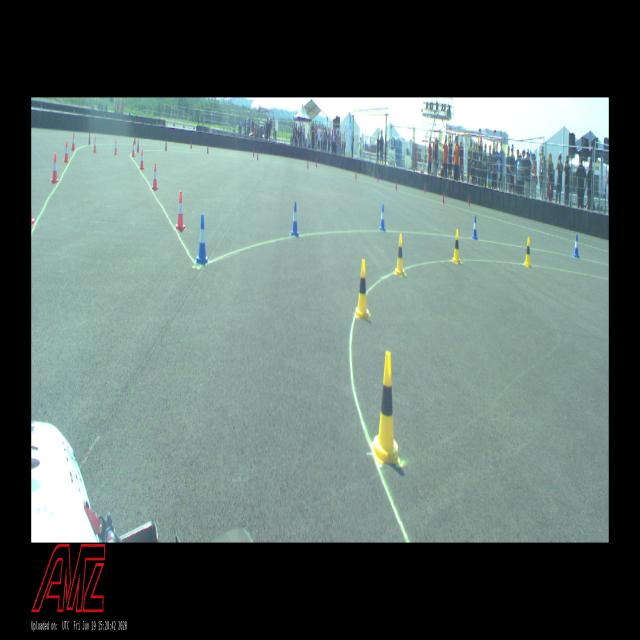blue_cone: (197, 214, 208, 264), (291, 202, 299, 236), (380, 204, 386, 231), (574, 235, 580, 258), (472, 216, 477, 239)
orange_cone: (176, 192, 185, 230), (51, 154, 58, 183), (152, 164, 158, 190), (64, 141, 69, 162), (31, 203, 35, 224), (140, 150, 144, 170), (114, 139, 118, 155), (72, 134, 76, 150), (93, 136, 96, 152), (132, 141, 135, 157)
unknown_cone: (88, 132, 90, 145), (137, 139, 139, 152), (442, 192, 444, 205), (468, 193, 470, 206), (424, 182, 426, 194), (134, 134, 136, 144), (165, 141, 167, 151), (395, 180, 397, 190), (190, 140, 192, 149), (355, 171, 357, 180), (257, 151, 258, 160), (253, 150, 254, 156), (208, 144, 208, 154), (308, 160, 308, 168), (316, 158, 316, 166), (378, 172, 378, 181)
yellow_cone: (373, 351, 398, 463), (356, 260, 368, 318), (395, 234, 405, 276), (452, 230, 460, 264), (524, 237, 531, 267)
